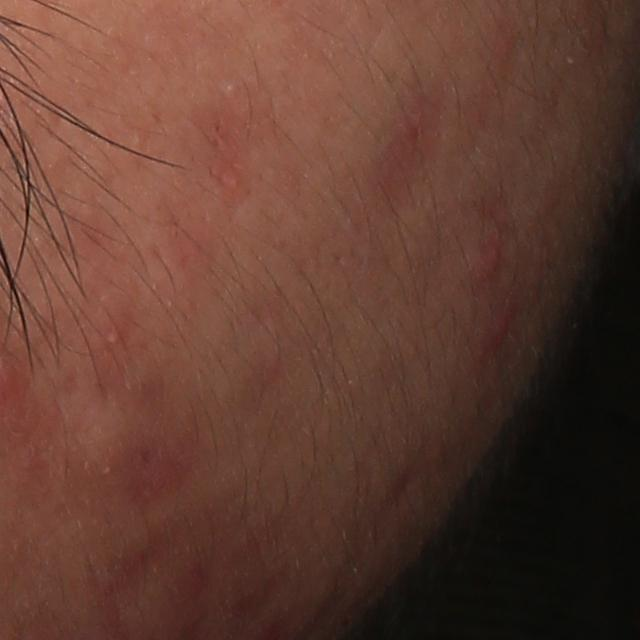hypertrophic_scar: (65, 389, 142, 477)
papule: (468, 236, 503, 289), (482, 302, 515, 353)
